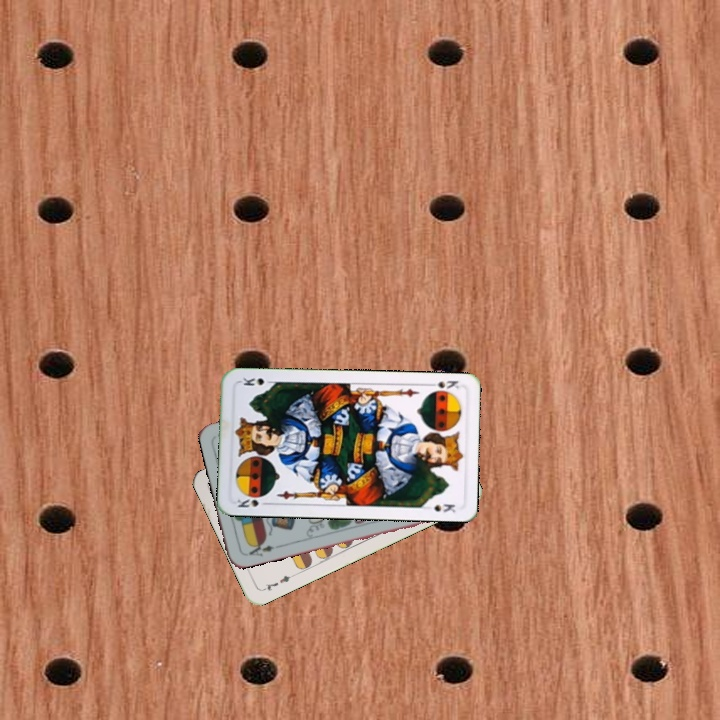E7: (258, 570, 297, 594)
EA: (244, 538, 281, 559)
SK: (233, 495, 272, 510), (423, 376, 461, 391)
